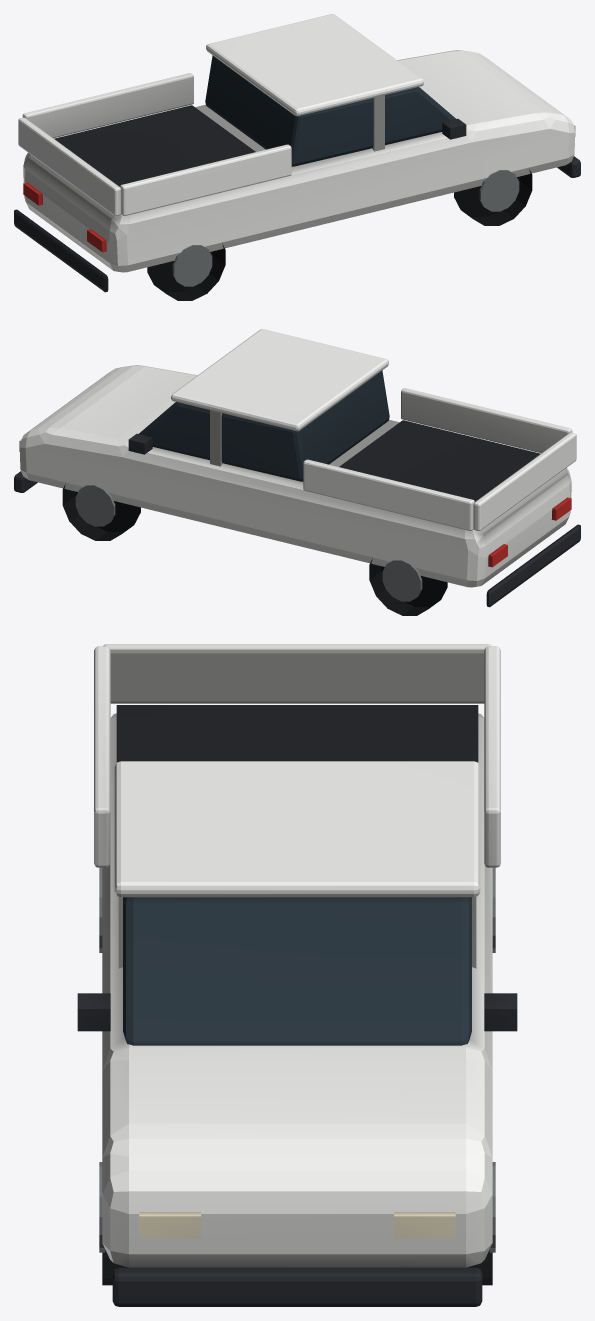
The model's file is pickup-BsMOooi-.glb.
3 views of the same model, one above another, from view 1: azimuth 30°, elevation 25°; view 2: azimuth 150°, elevation 25°; view 3: azimuth 270°, elevation 25° (orthographic). The views are drawn at different scales.
Parts seen in each view (by area): view 1: carroceria, pieza, vidrio, pieza.014, pieza.011, pieza.012, pieza.013, pieza.004, rueda.004, rueda, rueda.005, rueda.001 (+2 smaller); view 2: carroceria, pieza, vidrio, pieza.014, pieza.012, pieza.011, pieza.013, pieza.004, rueda.006, rueda.002, rueda.007, rueda.003 (+2 smaller); view 3: carroceria, vidrio, pieza, pieza.013, pieza.014, pieza.003, pieza.011, pieza.012, pieza.007, pieza.009, pieza.005, pieza.006.
Boxes of the visible parts, x1,y1,x2,y2 form: carroceria: (23,50,575,272); pieza: (206,14,423,116); vidrio: (205,55,455,166); pieza.014: (54,105,255,186); pieza.011: (120,144,291,215); pieza.012: (22,73,193,138); pieza.013: (18,117,121,216); pieza.004: (14,209,108,292); rueda.004: (454,169,532,225); rueda: (147,243,225,300); rueda.005: (479,170,519,211); rueda.001: (172,245,212,286); carroceria: (19,365,571,587); pieza: (171,329,388,431); vidrio: (139,370,389,481); pieza.014: (339,420,540,501); pieza.012: (303,459,474,530); pieza.011: (401,388,572,453); pieza.013: (473,432,576,531); pieza.004: (486,524,580,607); rueda.006: (62,484,140,540); rueda.002: (369,558,447,615); rueda.007: (75,485,115,526); rueda.003: (382,560,422,601); carroceria: (102,713,492,1267); vidrio: (123,897,471,1045); pieza: (114,761,480,897); pieza.013: (103,644,491,703); pieza.014: (116,705,478,762); pieza.003: (112,1267,482,1306); pieza.011: (94,646,110,867); pieza.012: (484,646,500,867); pieza.007: (139,1212,200,1238); pieza.009: (394,1212,455,1238); pieza.005: (77,993,110,1031); pieza.006: (484,993,517,1031).
Bounding box in the file's own units: 5.36 × 1.74 × 2.14.
